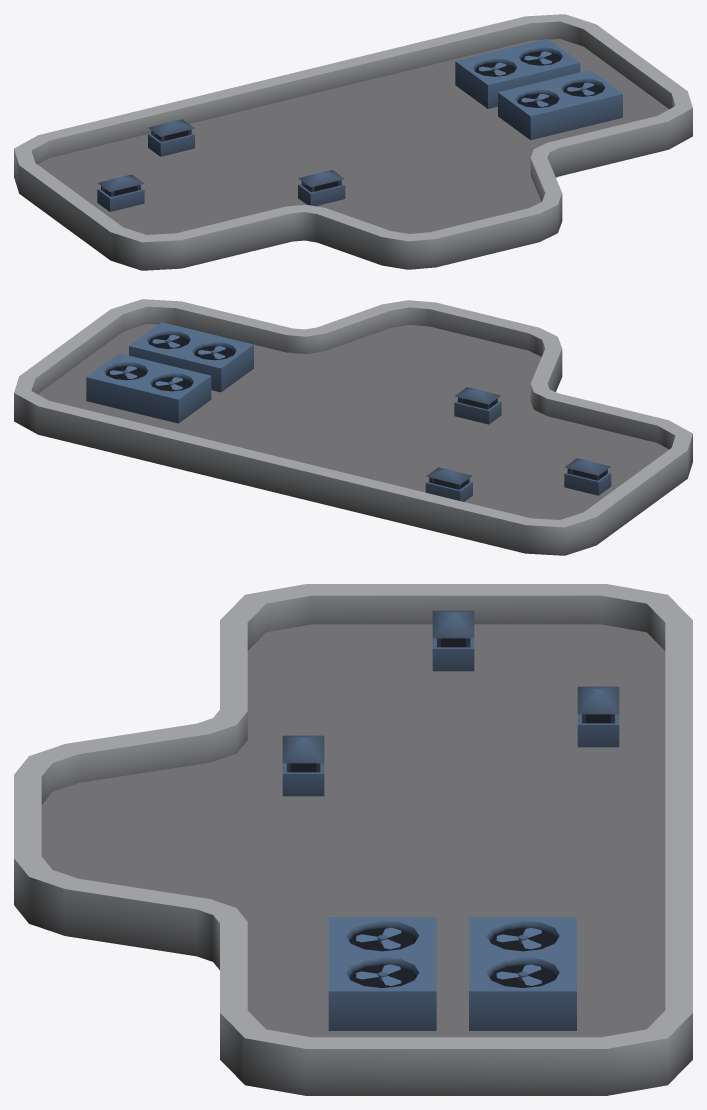
The model's file is House 1 Roof.fbx.
3 views of the same model, one above another, from view 1: azimuth 30°, elevation 25°; view 2: azimuth 150°, elevation 25°; view 3: azimuth 270°, elevation 25° (orthographic). The views are drawn at different scales.
Parts seen in each view (by area): view 1: House3_roof; view 2: House3_roof; view 3: House3_roof.
Boxes of the visible parts, box(x1,y1,x2,y2) form: House3_roof: box(14, 14, 692, 270); House3_roof: box(14, 299, 692, 555); House3_roof: box(14, 584, 692, 1095).
Bounding box in the file's own units: 211 × 13.07 × 130.
